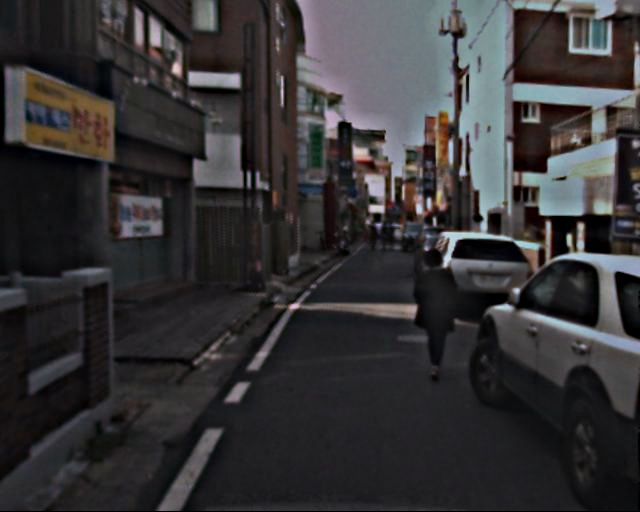person: (408, 247, 465, 385), (365, 219, 397, 251)
